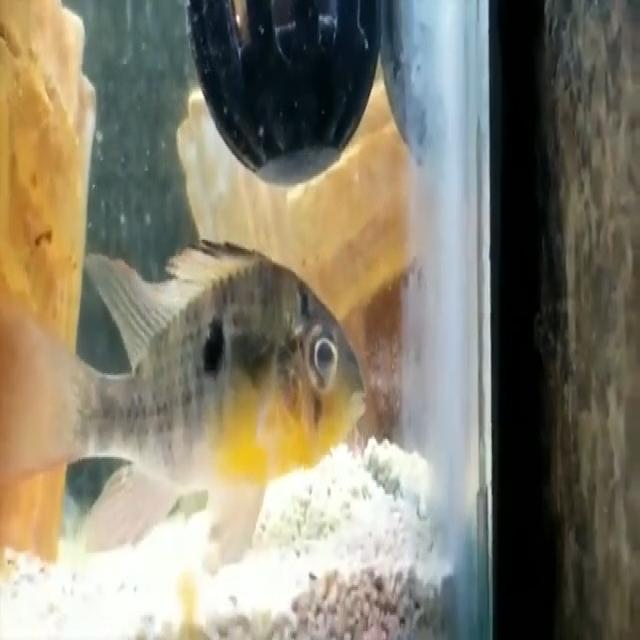fish: (1, 234, 376, 577)
